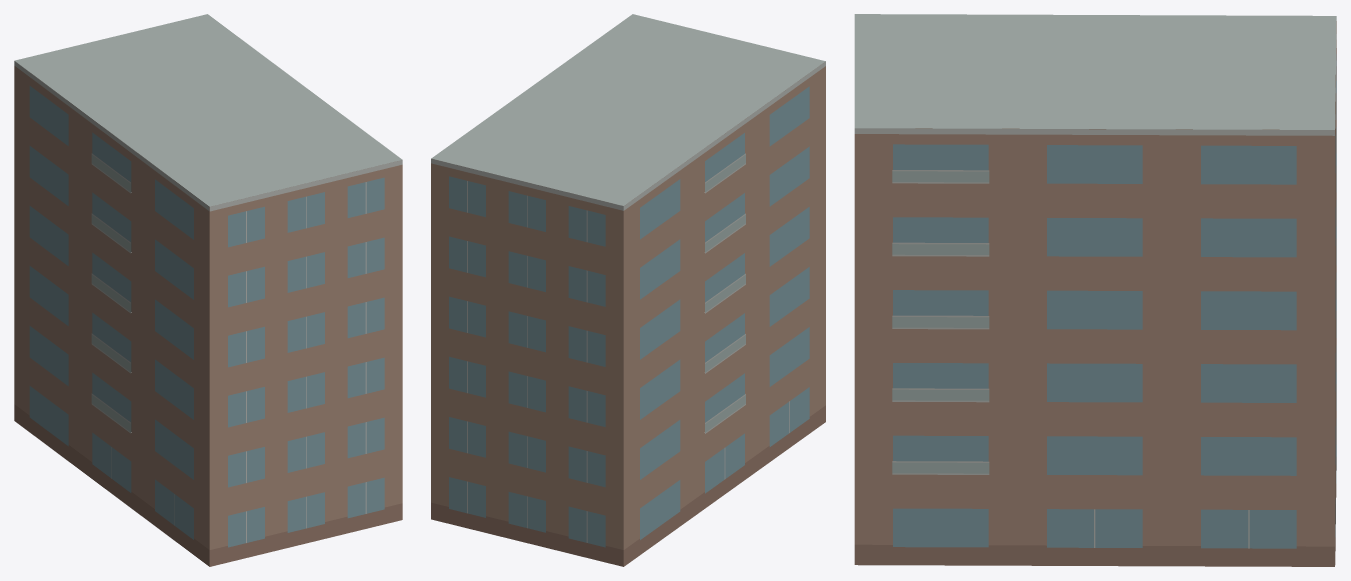
The model's file is survey-upis-32962556.glb.
3 views of the same model, side by side, from view 1: azimuth 30°, elevation 25°; view 2: azimuth 150°, elevation 25°; view 3: azimuth 270°, elevation 25° (orthographic). The views are drawn at different scales.
Visible parts, largest first — view 1: survey-upis-32962556.tmp; view 2: survey-upis-32962556.tmp; view 3: survey-upis-32962556.tmp.
Part boxes in pixels (x1,y1,x2,y2): survey-upis-32962556.tmp: (14,14,402,566); survey-upis-32962556.tmp: (431,14,825,566); survey-upis-32962556.tmp: (854,14,1336,566).
Size of the model in its own units: 10.43 by 18.3 by 18.31.
